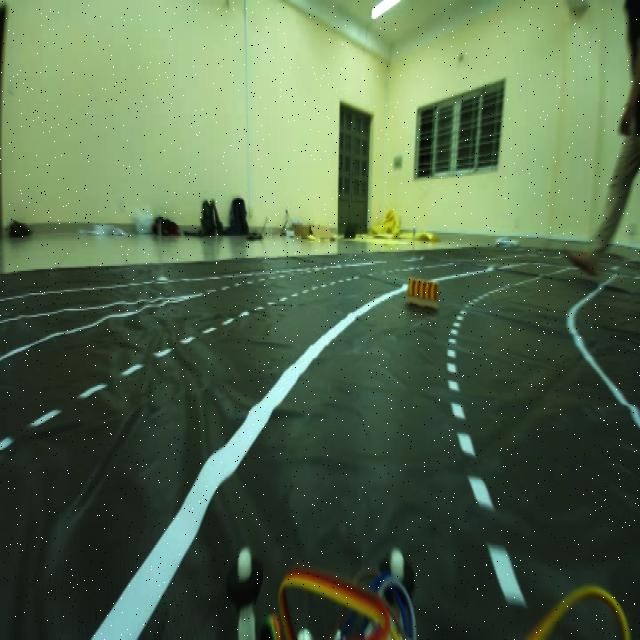roadblock: (402, 268, 440, 310)
